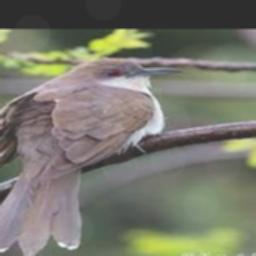Cuckoo: (0, 57, 182, 256)
